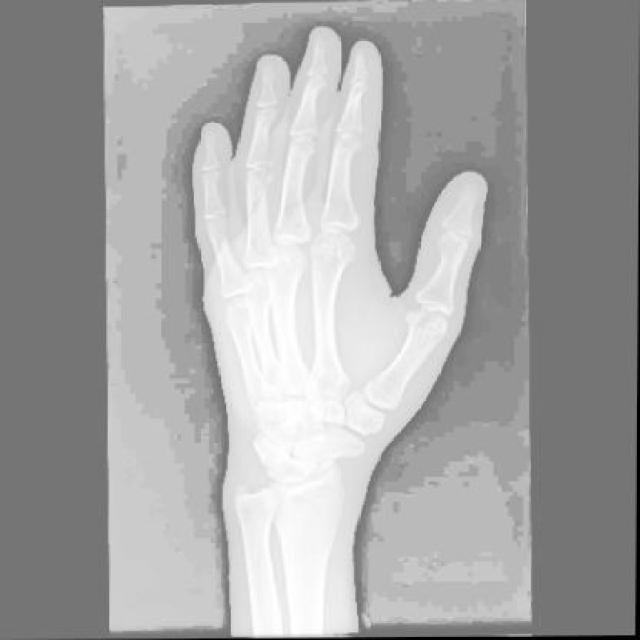Fracture: (278, 396, 322, 430)
